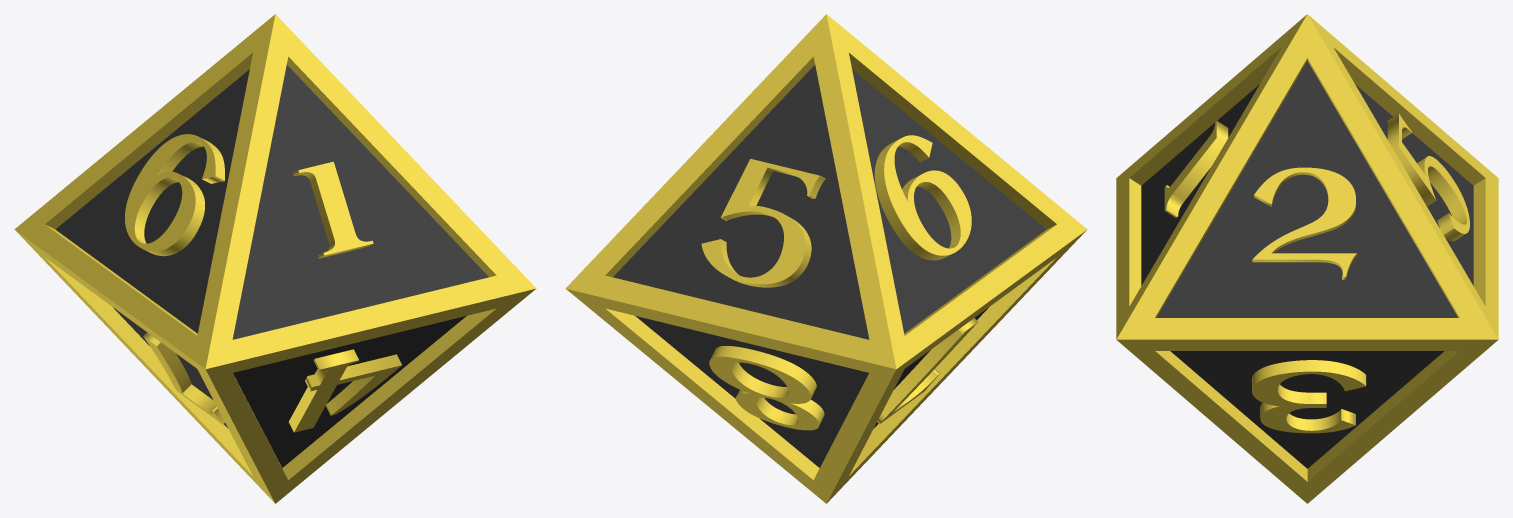
3 renders of one model, left to right at view 1: azimuth 30°, elevation 25°; view 2: azimuth 150°, elevation 25°; view 3: azimuth 270°, elevation 25°, orthographic.
Visible parts, largest first — view 1: Solid.003, d8_face1, d8_face_6, d8_face_4, Text.021, Text.023, Text.018, Text.022, d8_face_7; view 2: Solid.003, d8_face_5, d8_face_6, d8_face_8, Text.021, Text.020, Text.025, Text.022; view 3: Solid.003, d8_face_2, d8_face_3, Text.024, Text.019, d8_face1, Text.020, d8_face_5, Text.018.
Boxes of the visible parts, left/top/right/bottom form: Solid.003: left=14, top=14, right=536, bottom=503; d8_face1: left=232, top=65, right=488, bottom=339; d8_face_6: left=55, top=69, right=249, bottom=333; d8_face_4: left=233, top=316, right=466, bottom=467; Text.021: left=125, top=134, right=224, bottom=256; Text.023: left=289, top=349, right=401, bottom=432; Text.018: left=293, top=161, right=373, bottom=258; Text.022: left=143, top=332, right=225, bottom=424; d8_face_7: left=113, top=307, right=227, bottom=427; Solid.003: left=565, top=14, right=1087, bottom=503; d8_face_5: left=613, top=65, right=869, bottom=339; d8_face_6: left=852, top=69, right=1046, bottom=333; d8_face_8: left=635, top=316, right=868, bottom=467; Text.021: left=874, top=135, right=971, bottom=260; Text.020: left=701, top=158, right=825, bottom=287; Text.025: left=709, top=346, right=824, bottom=430; Text.022: left=877, top=318, right=978, bottom=424; Solid.003: left=1116, top=14, right=1498, bottom=503; d8_face_2: left=1156, top=61, right=1458, bottom=317; d8_face_3: left=1170, top=351, right=1444, bottom=468; Text.024: left=1252, top=360, right=1366, bottom=433; Text.019: left=1252, top=167, right=1357, bottom=279; d8_face1: left=1141, top=84, right=1259, bottom=285; Text.020: left=1387, top=113, right=1469, bottom=241; d8_face_5: left=1355, top=84, right=1473, bottom=285; Text.018: left=1164, top=121, right=1228, bottom=218.
Bounding box in the file's own units: 2.12 × 3 × 2.12.
